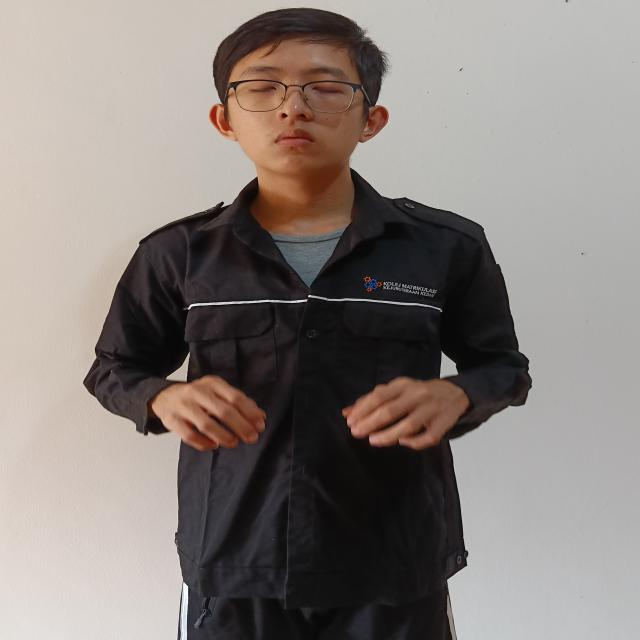person_with_labcoat: (85, 8, 531, 640)
